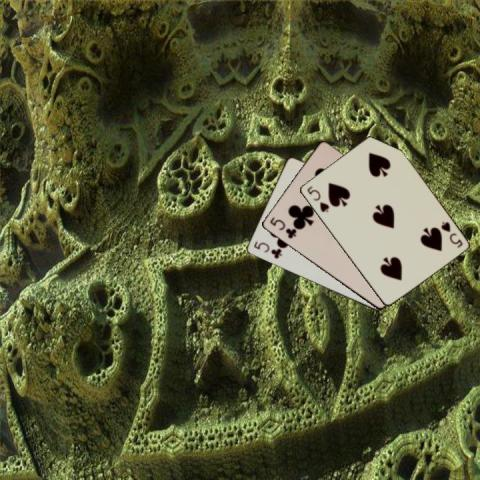5c: (267, 214, 297, 240), (251, 238, 283, 260)
5s: (437, 218, 464, 249), (304, 183, 330, 214)
